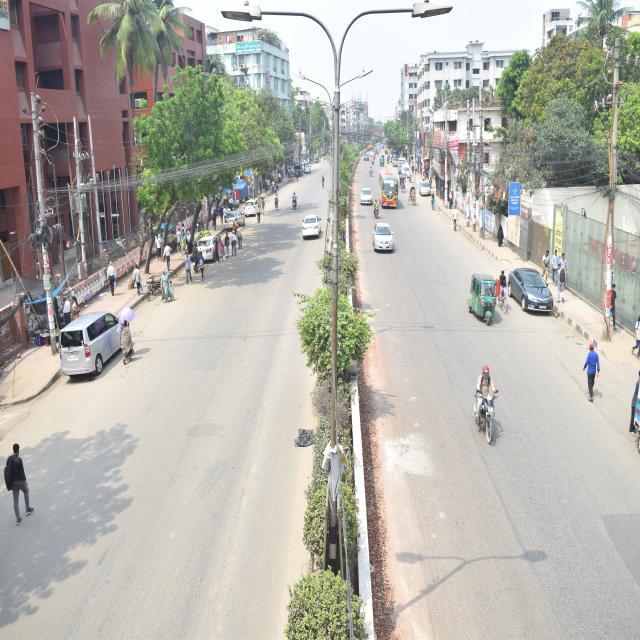bus: (374, 163, 408, 210)
car: (17, 303, 160, 401), (495, 257, 573, 329), (186, 203, 241, 275), (367, 218, 418, 273), (216, 196, 258, 254), (241, 178, 275, 234), (296, 210, 332, 254), (354, 182, 386, 228), (396, 152, 418, 191), (414, 175, 441, 206), (360, 143, 372, 164)
motorbike: (459, 346, 511, 504), (186, 240, 208, 291), (371, 191, 384, 223), (284, 188, 302, 208), (362, 164, 376, 183)
pickup-van: (289, 154, 306, 182)
